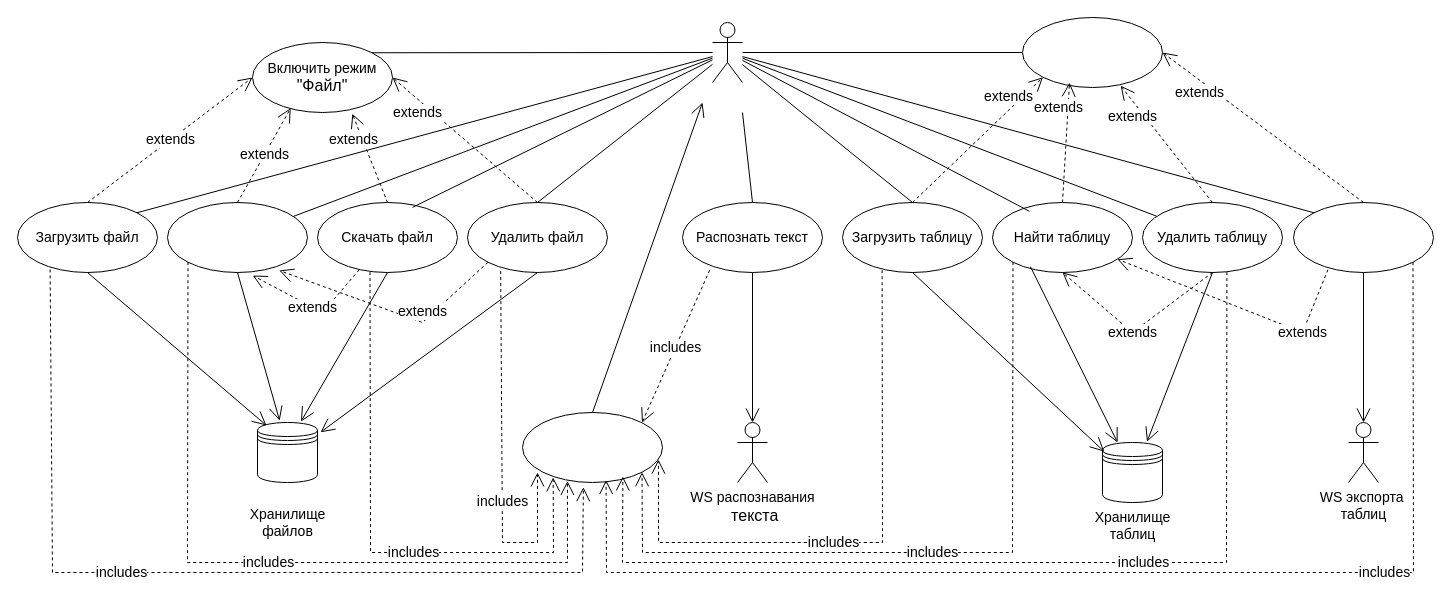
Some shapes in this 1451 by 604 pixel diagram are drawn without their labels. Here are the shapes that lost their labels. From the top down, the centre of each, then its label:
(x=727, y=52): Пользователь
(x=1092, y=52): Включить режим "Таблица"
(x=237, y=237): Найти файл
(x=1363, y=237): Экспортировать таблицу
(x=592, y=447): Отобразить результат
